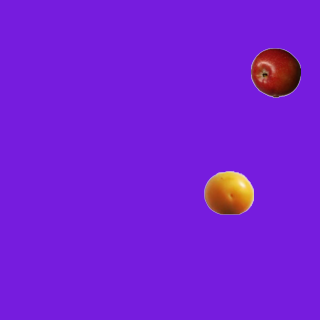Apple Braeburn: (250, 47, 300, 97)
Cherry Wax Yellow: (203, 167, 253, 217)
